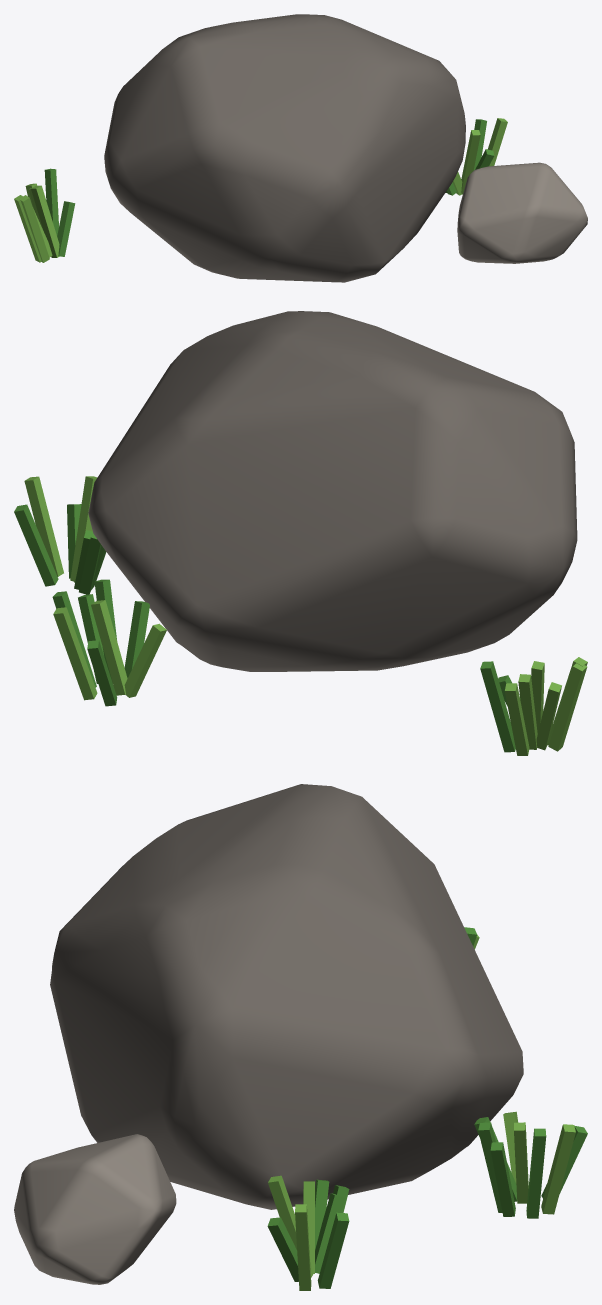
Rendered from rocher_prairie_1.glb.
The picture shows the model from 3 angles, top to bottom: view 1: azimuth 30°, elevation 25°; view 2: azimuth 150°, elevation 25°; view 3: azimuth 270°, elevation 25°; orthographic projection. The views are drawn at different scales.
Visible parts, largest first — view 1: roche_pierre.012, roche_pierre_claire.006, herbe_feuille_claire.002, herbe_feuille.004; view 2: roche_pierre.012, herbe_feuille_claire.002, herbe_feuille.004; view 3: roche_pierre.012, roche_pierre_claire.006, herbe_feuille.004, herbe_feuille_claire.002.
Part boxes in pixels (x1,y1,x2,y2): roche_pierre.012: (104, 14, 465, 282); roche_pierre_claire.006: (457, 162, 587, 263); herbe_feuille_claire.002: (14, 118, 507, 262); herbe_feuille.004: (44, 119, 494, 256); roche_pierre.012: (88, 311, 577, 671); herbe_feuille_claire.002: (24, 476, 587, 755); herbe_feuille.004: (14, 504, 520, 752); roche_pierre.012: (50, 784, 523, 1209); roche_pierre_claire.006: (14, 1134, 176, 1284); herbe_feuille.004: (267, 927, 587, 1288); herbe_feuille_claire.002: (268, 935, 575, 1290).
Size of the model in its own units: 1.12 by 0.5223 by 0.8701.
